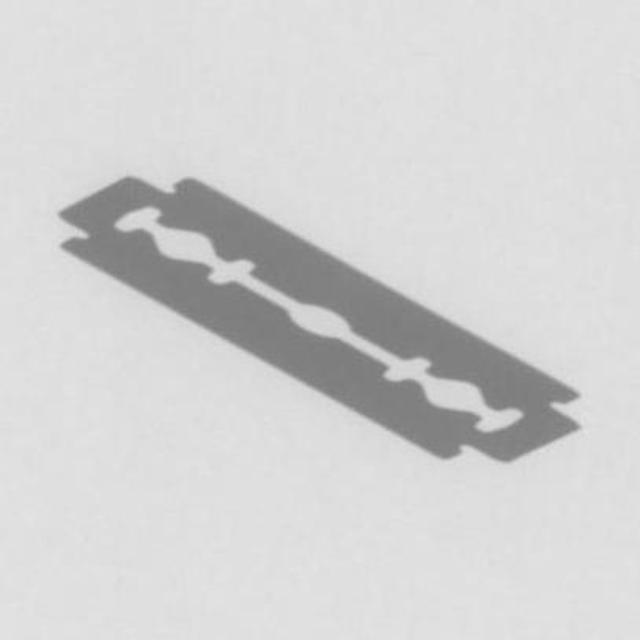razor: (50, 174, 586, 471)
